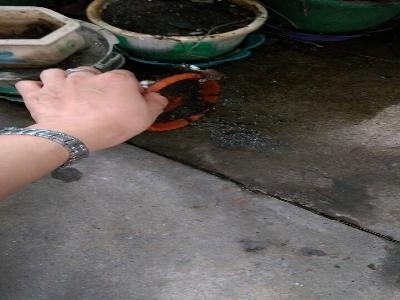bowl: (86, 1, 270, 61), (1, 5, 86, 71)
plate: (115, 35, 267, 68)
